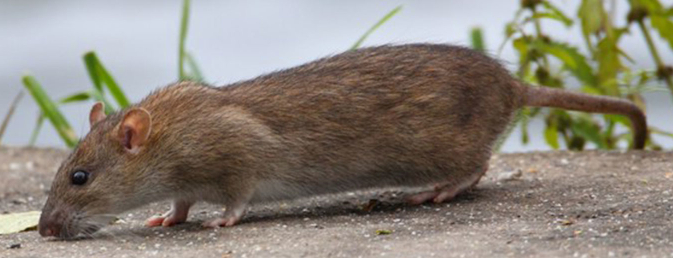rat: (28, 33, 599, 246)
